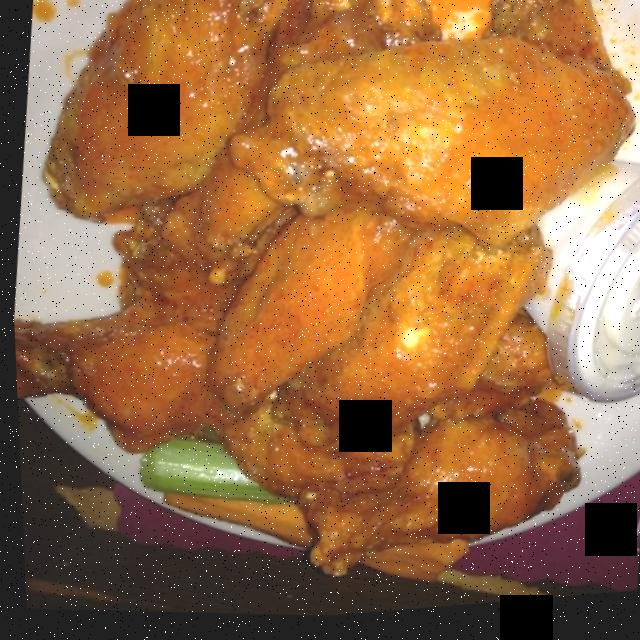Frango: (242, 0, 640, 265), (207, 179, 529, 468), (27, 0, 250, 240)
